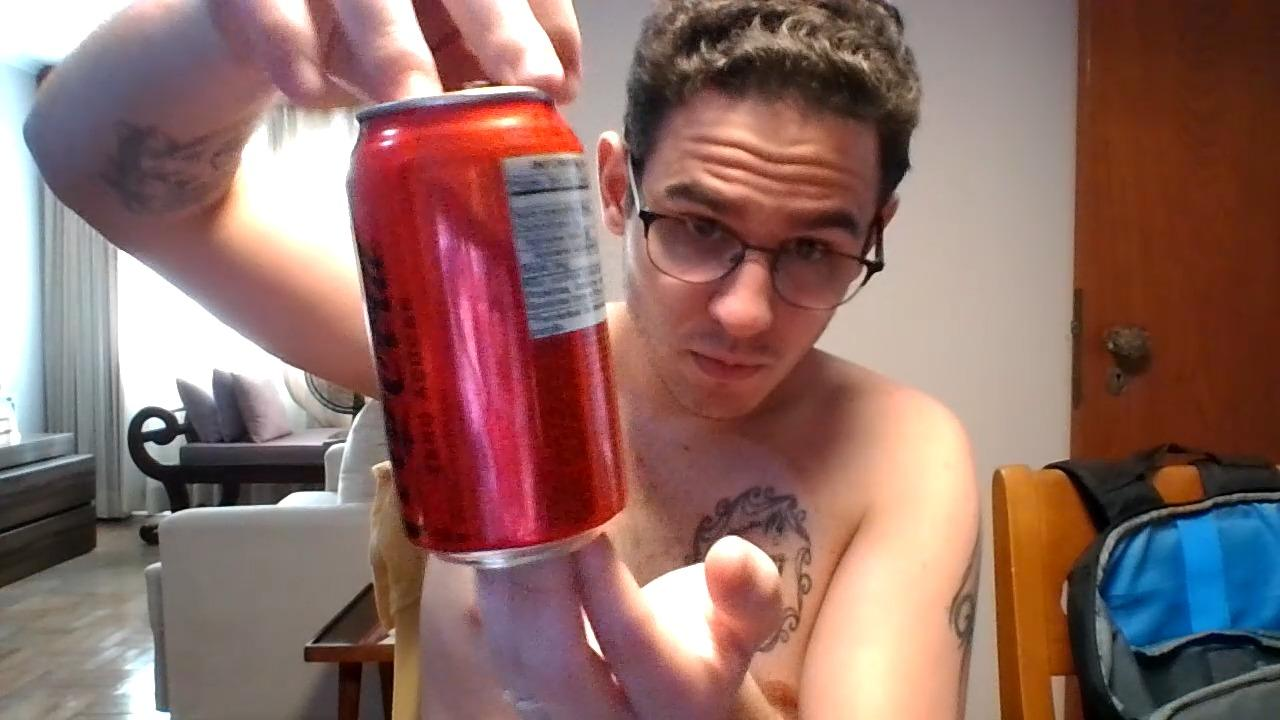coke: (360, 102, 616, 562)
